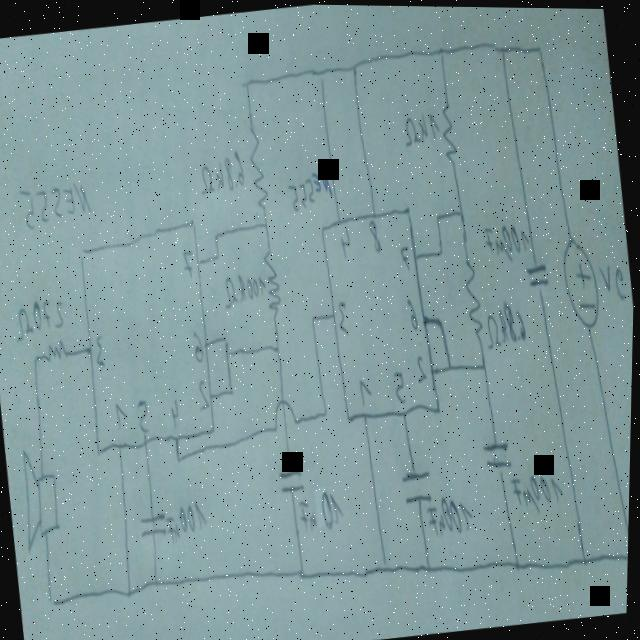capacitor: (400, 463, 435, 504), (482, 437, 514, 469), (278, 462, 306, 495), (524, 257, 552, 289), (140, 509, 169, 536)
crossover: (271, 391, 302, 439)
junction: (44, 582, 62, 618), (581, 542, 593, 576), (513, 547, 526, 576), (298, 558, 310, 583), (240, 72, 253, 95), (434, 310, 446, 333), (32, 347, 43, 372), (479, 353, 490, 376), (445, 352, 456, 375), (382, 550, 392, 575), (349, 55, 359, 78), (214, 238, 223, 263), (152, 570, 163, 590), (626, 526, 631, 567), (126, 581, 136, 601), (457, 200, 466, 222), (274, 337, 283, 359), (534, 40, 544, 59), (425, 555, 434, 576), (174, 444, 183, 465), (261, 214, 270, 234), (497, 39, 506, 58), (309, 308, 318, 327), (212, 227, 221, 246), (317, 63, 325, 82), (222, 328, 230, 346), (224, 341, 232, 359), (433, 208, 441, 225), (322, 401, 330, 418), (437, 40, 445, 56), (228, 382, 236, 397), (438, 242, 445, 257)
resistor: (244, 119, 272, 216), (461, 253, 486, 338), (260, 242, 285, 322), (437, 95, 460, 172), (44, 334, 70, 365)
source: (558, 230, 605, 332)
text: (17, 176, 93, 230), (510, 466, 566, 515), (12, 294, 68, 341), (481, 215, 533, 265), (196, 145, 247, 195), (483, 295, 528, 350), (425, 490, 477, 537), (297, 485, 347, 532), (164, 496, 211, 545), (285, 165, 335, 211), (222, 269, 268, 310), (596, 254, 628, 303), (402, 105, 441, 145), (135, 395, 152, 434), (367, 214, 383, 255), (195, 374, 212, 411), (114, 397, 131, 433), (191, 327, 206, 366), (336, 297, 351, 336), (93, 330, 108, 368), (393, 365, 408, 403), (339, 222, 353, 260), (181, 245, 196, 278), (406, 293, 419, 331), (414, 351, 429, 382), (359, 374, 375, 403), (169, 394, 182, 429), (398, 238, 412, 270)
